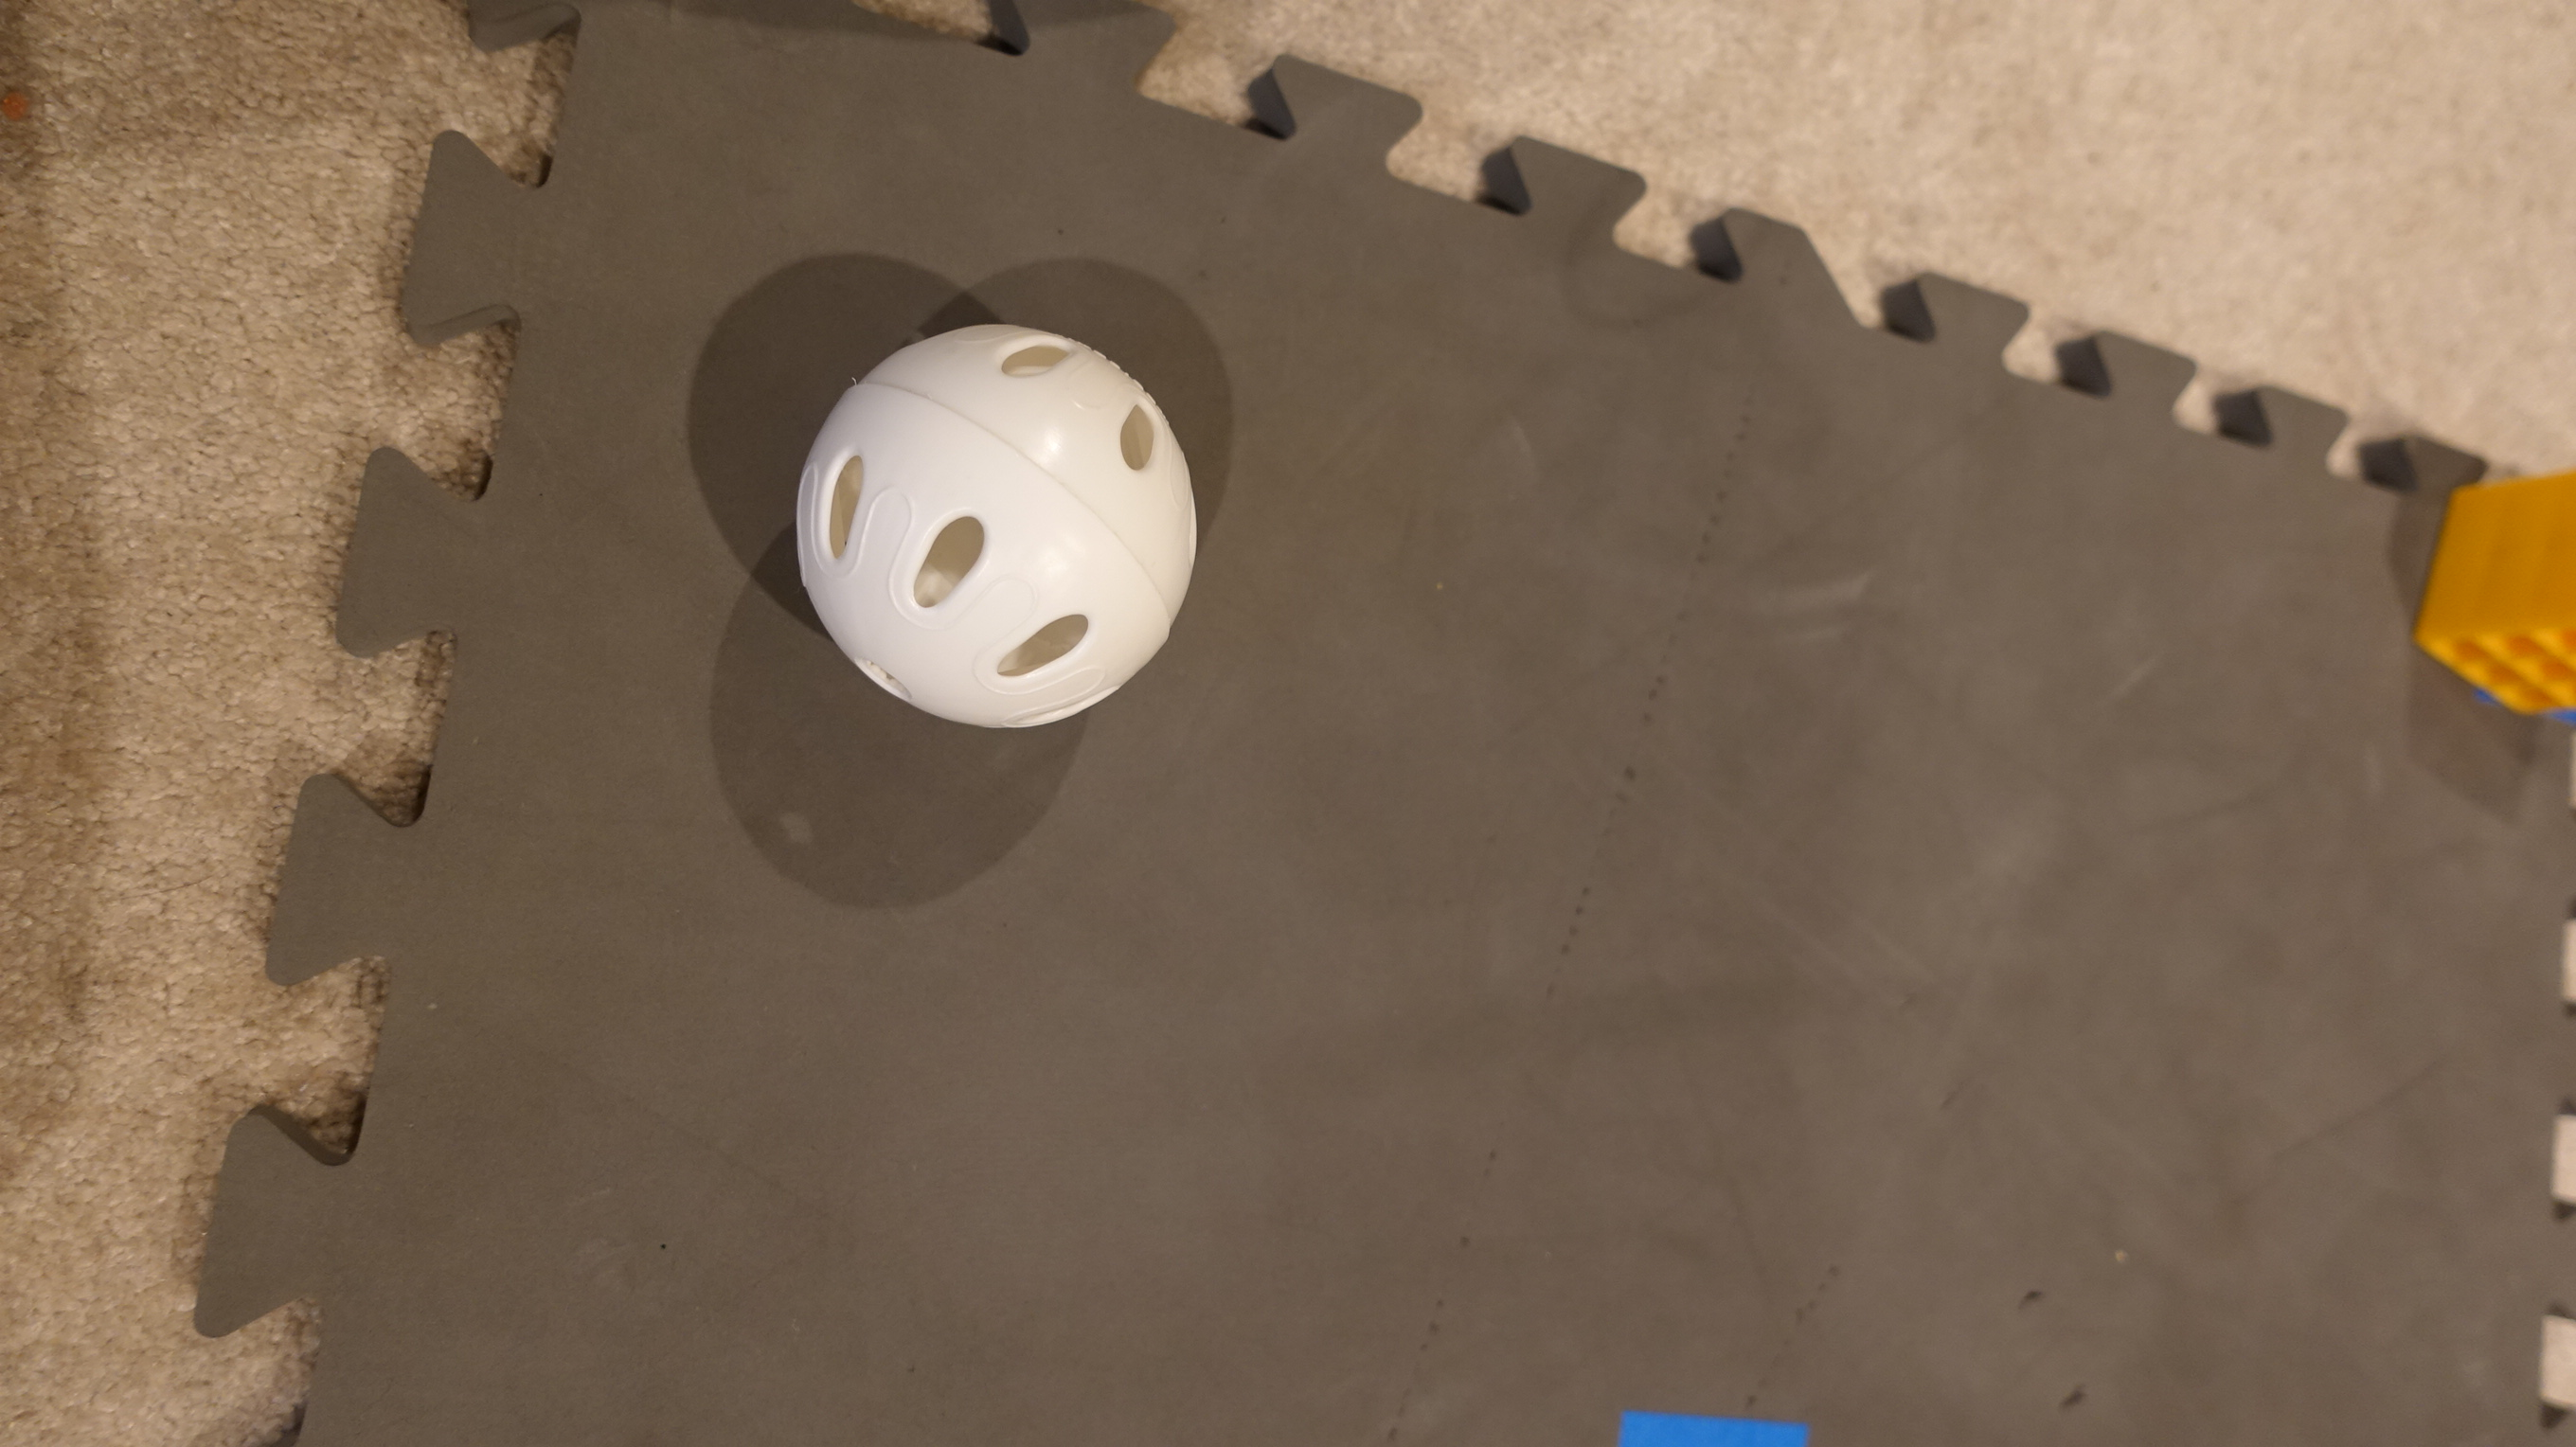gold: (2417, 433, 2576, 729)
silver: (775, 302, 1224, 738)
